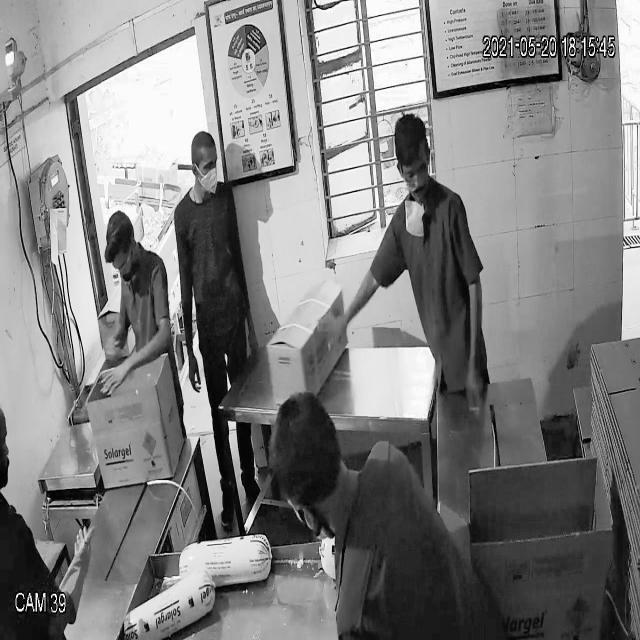glasses: (395, 148, 432, 191), (111, 245, 137, 282)
